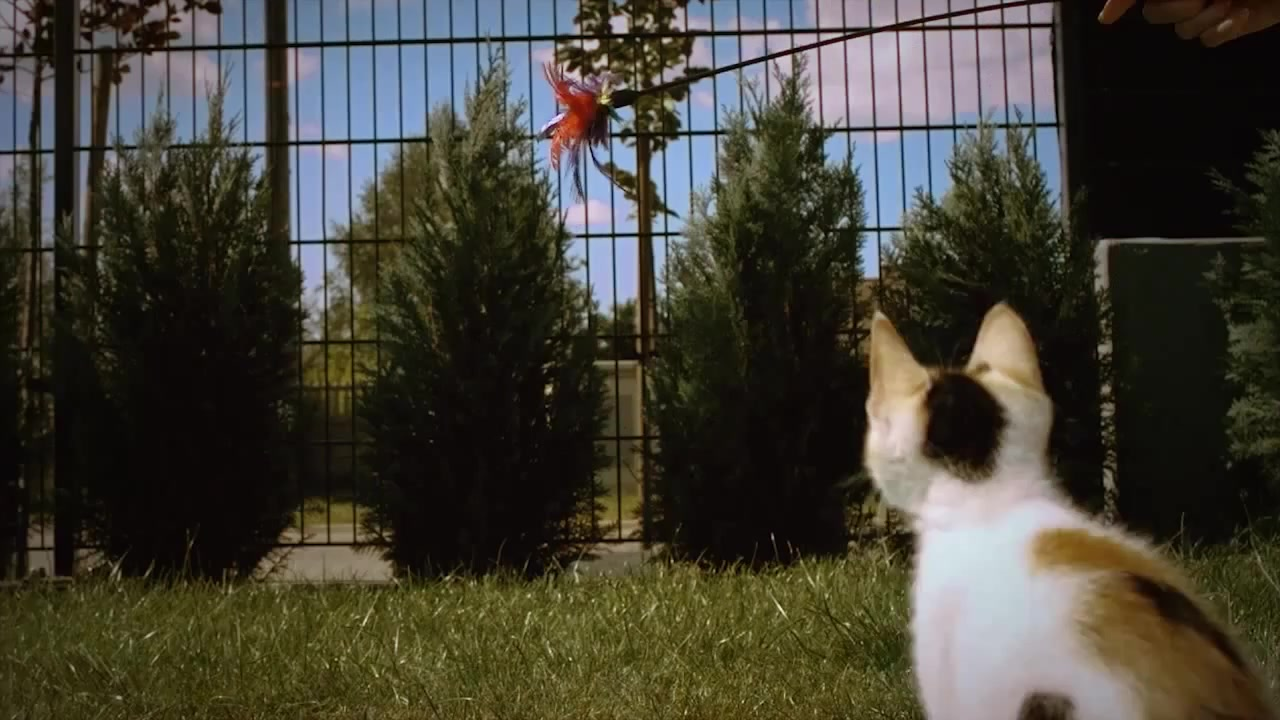cat: (859, 301, 1280, 720)
